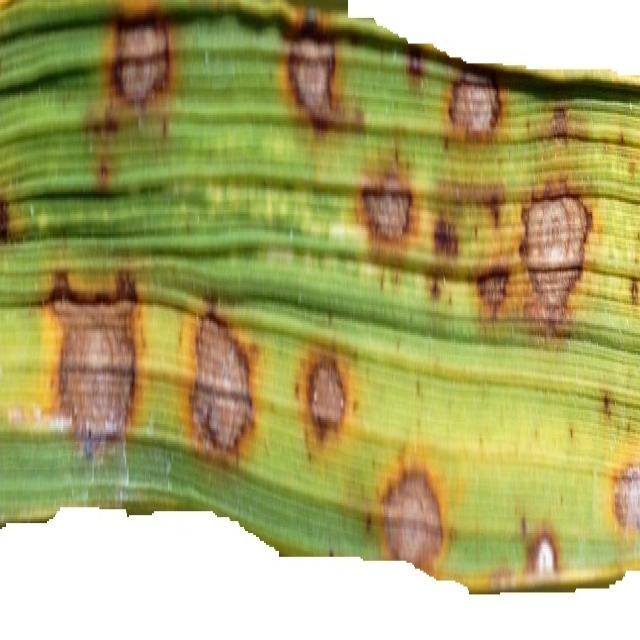Unhealthy: (355, 145, 601, 339), (3, 266, 150, 471), (174, 298, 270, 473), (279, 0, 369, 136), (99, 0, 179, 146), (375, 436, 451, 583), (294, 342, 368, 469), (443, 52, 510, 149), (487, 514, 562, 594), (543, 99, 591, 151), (0, 185, 30, 245), (402, 41, 430, 96), (628, 273, 640, 313), (602, 388, 611, 418), (619, 128, 627, 151)
